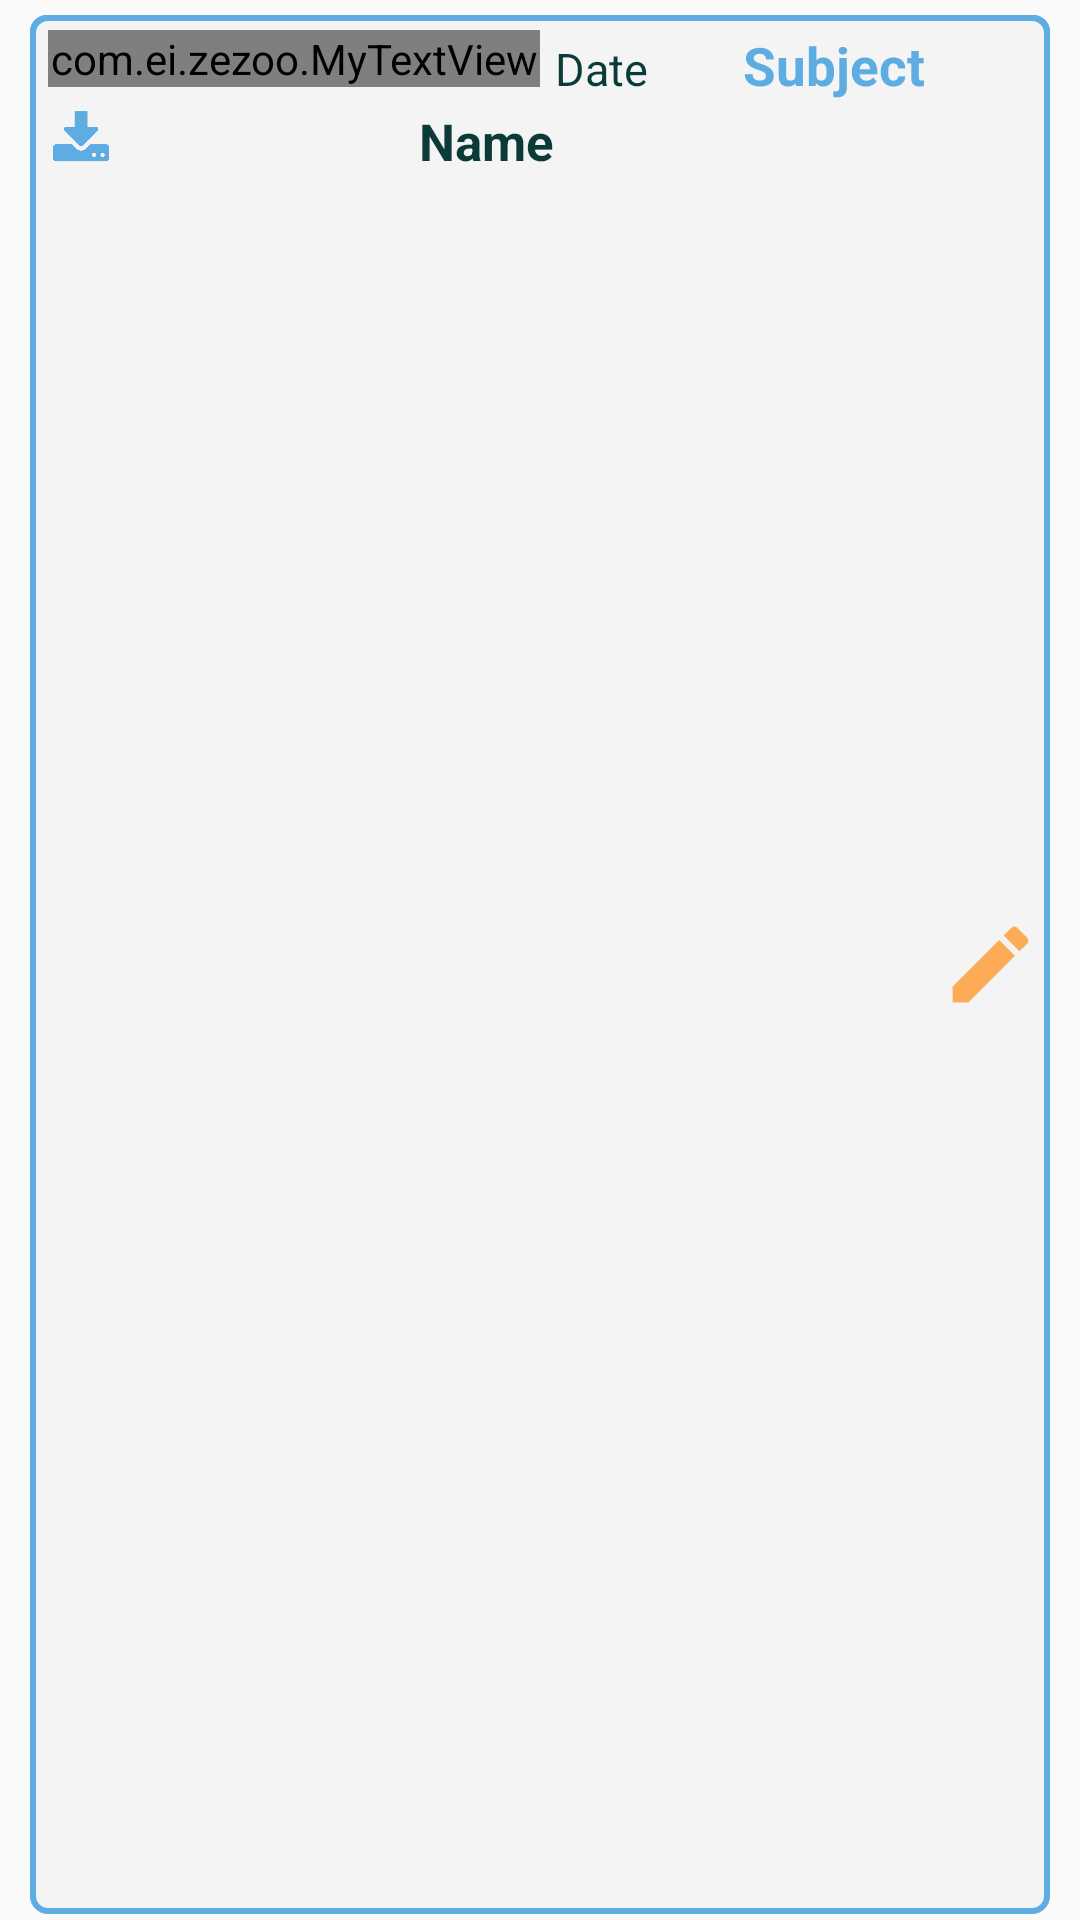

Where icons sit on this 1080px x 1920px app screen, as [x1=x1, y1=y1, x2=x2, y2=y2]:
download: [x1=53, y1=111, x2=109, y2=161]
edit: [x1=952, y1=926, x2=1029, y2=1003]
